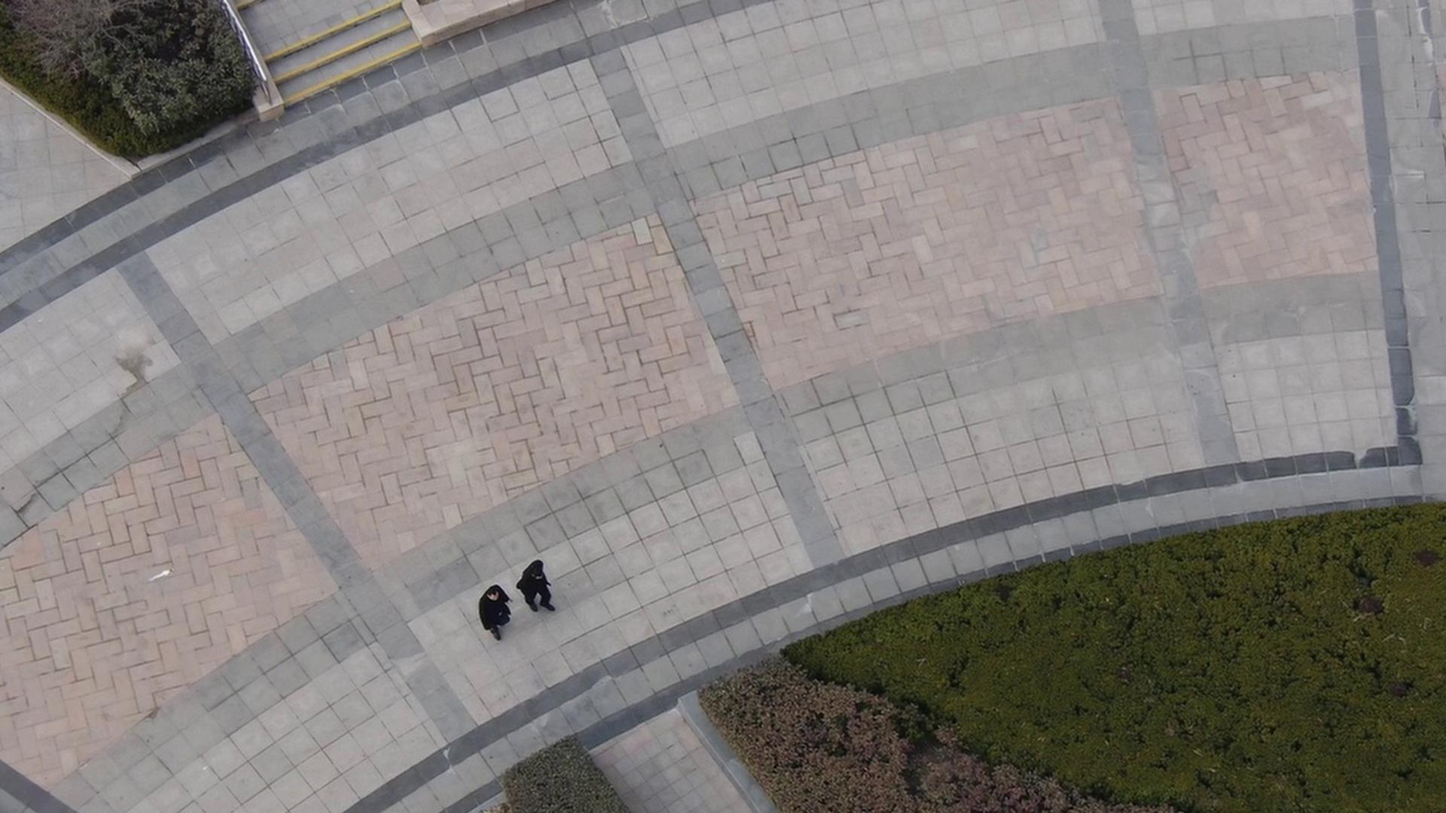human: (465, 579, 521, 644), (512, 551, 555, 615)
